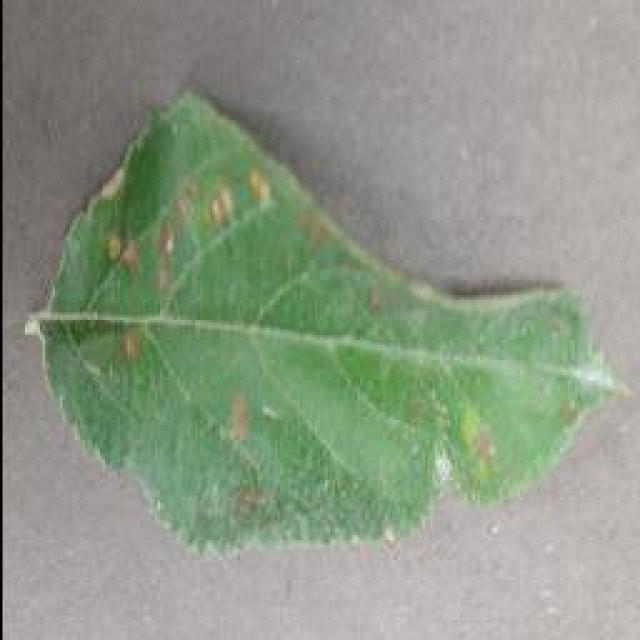apple rust disease: (22, 82, 630, 558)
